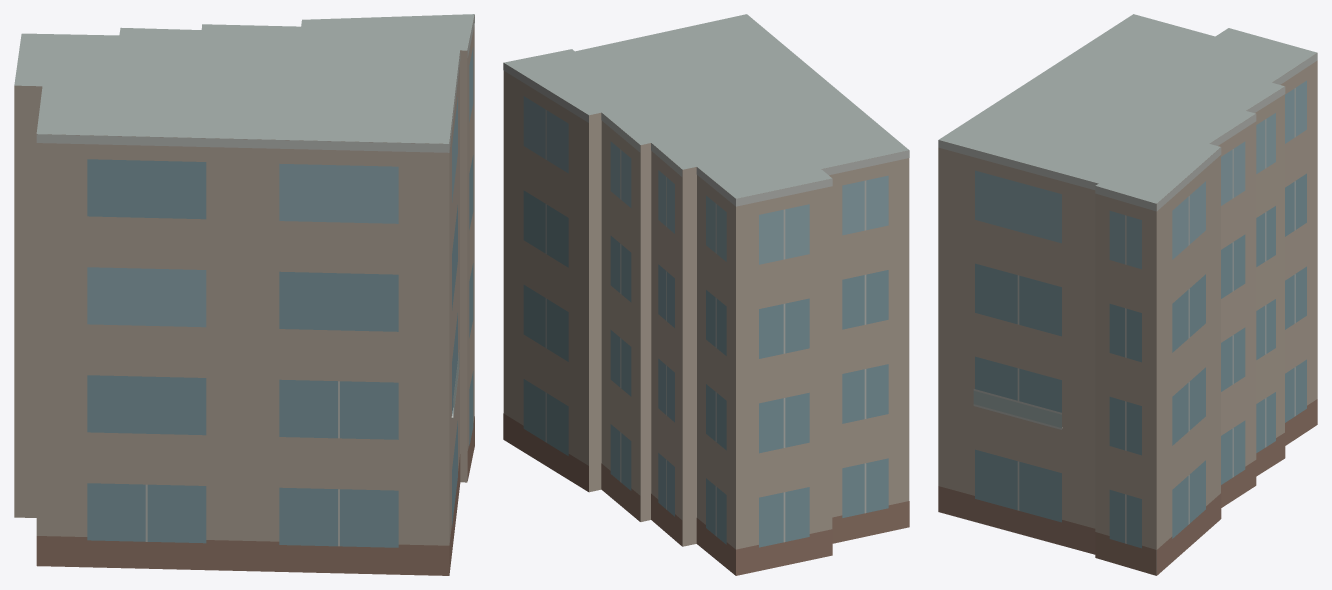
File: survey-upis-32500870.glb
3 renders of one model, left to right at view 1: azimuth 30°, elevation 25°; view 2: azimuth 150°, elevation 25°; view 3: azimuth 270°, elevation 25°, orthographic. The views are drawn at different scales.
Parts seen in each view (by area): view 1: survey-upis-32500870.tmp; view 2: survey-upis-32500870.tmp; view 3: survey-upis-32500870.tmp.
Part boxes in pixels (left/top/right/bottom): survey-upis-32500870.tmp: left=14, top=14, right=474, bottom=575; survey-upis-32500870.tmp: left=503, top=14, right=909, bottom=575; survey-upis-32500870.tmp: left=938, top=14, right=1317, bottom=575.
Bounding box in the file's own units: 12.92 × 11.8 × 10.91.
